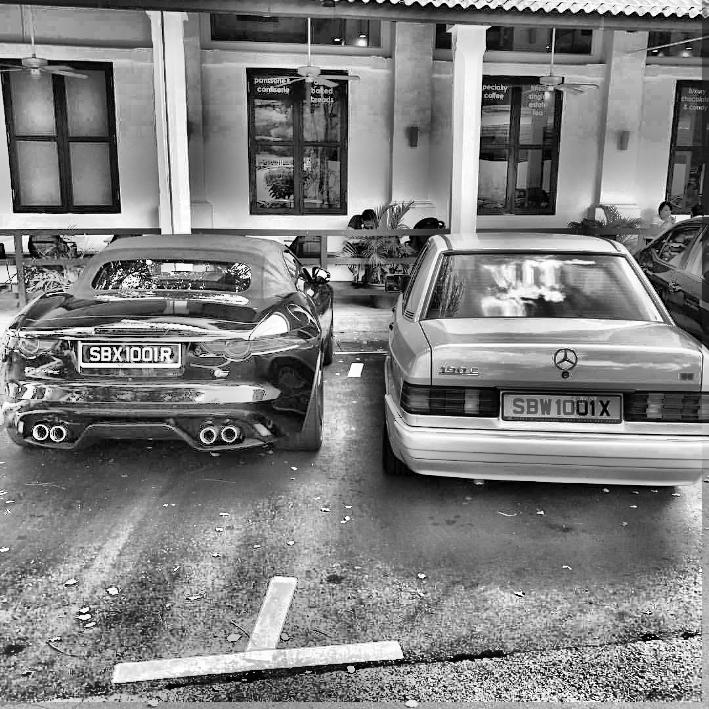License-Plates: (504, 394, 618, 418), (82, 344, 178, 362)
